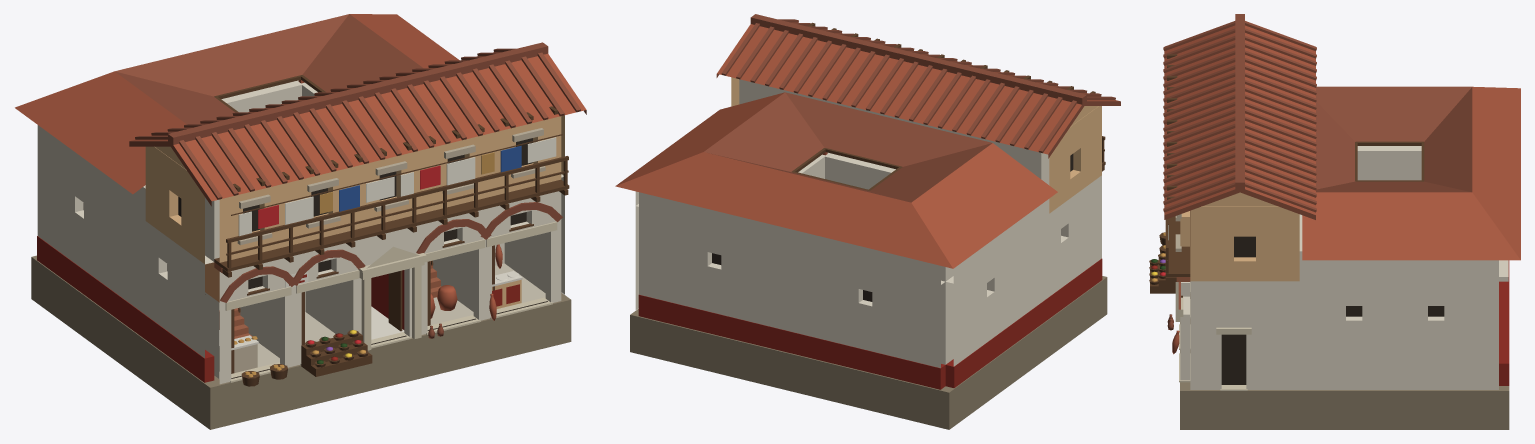
The model's file is rome_insula_k.glb.
3 views of the same model, side by side, from view 1: azimuth 30°, elevation 25°; view 2: azimuth 150°, elevation 25°; view 3: azimuth 270°, elevation 25° (orthographic). The views are drawn at different scales.
Parts seen in each view (by area): view 1: rome_insula_k; view 2: rome_insula_k; view 3: rome_insula_k.
Part boxes in pixels (x1=…): rome_insula_k: x1=15, y1=14, x2=586, y2=429; rome_insula_k: x1=615, y1=14, x2=1120, y2=429; rome_insula_k: x1=1149, y1=14, x2=1520, y2=429.
Size of the model in its own units: 14.9 by 10.12 by 13.6.
